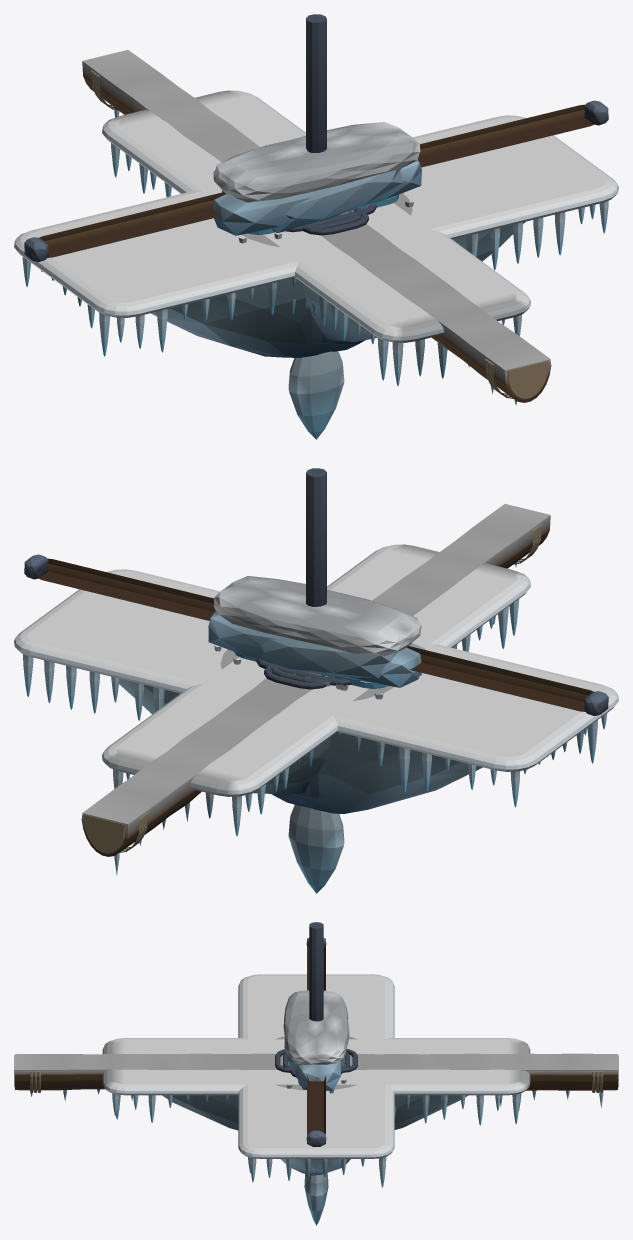
Rendered from glacier-6-03Wy5TfQ.glb.
3 views of the same model, one above another, from view 1: azimuth 30°, elevation 25°; view 2: azimuth 150°, elevation 25°; view 3: azimuth 270°, elevation 25° (orthographic). The views are drawn at different scales.
Visible parts, largest first — view 1: block_28x2x10#0, block_8x2x28#0, beam_2.5x1.5x40#0, spout_8x2#0, mount_15.3#0, blade_3x12x1#0, press_7.5x6x2.5#0, disc_10x1.5#0, jetVent_3x5#0; view 2: block_28x2x10#0, block_8x2x28#0, beam_2.5x1.5x40#0, spout_8x2#0, mount_15.3#0, blade_3x12x1#0, press_7.5x6x2.5#0, disc_10x1.5#0, jetVent_3x5#0; view 3: block_28x2x10#0, block_8x2x28#0, beam_2.5x1.5x40#0, spout_8x2#0, mount_15.3#0, press_7.5x6x2.5#0, blade_3x12x1#0.
Boxes of the visible parts, x1,y1,x2,y2 form: block_28x2x10#0: (14, 115, 618, 357); block_8x2x28#0: (102, 90, 530, 385); beam_2.5x1.5x40#0: (82, 50, 551, 405); spout_8x2#0: (213, 122, 421, 243); mount_15.3#0: (24, 100, 608, 261); blade_3x12x1#0: (288, 351, 344, 439); press_7.5x6x2.5#0: (306, 14, 326, 152); disc_10x1.5#0: (241, 193, 412, 343); jetVent_3x5#0: (303, 207, 368, 235); block_28x2x10#0: (14, 569, 618, 813); block_8x2x28#0: (102, 544, 530, 836); beam_2.5x1.5x40#0: (81, 504, 550, 875); spout_8x2#0: (208, 576, 424, 699); mount_15.3#0: (24, 554, 608, 715); blade_3x12x1#0: (288, 805, 344, 893); press_7.5x6x2.5#0: (306, 468, 326, 606); disc_10x1.5#0: (220, 649, 394, 797); jetVent_3x5#0: (264, 663, 335, 689); block_28x2x10#0: (238, 974, 394, 1187); block_8x2x28#0: (102, 1038, 530, 1130); beam_2.5x1.5x40#0: (14, 1053, 618, 1107); spout_8x2#0: (283, 990, 349, 1093); mount_15.3#0: (306, 938, 326, 1146); press_7.5x6x2.5#0: (309, 922, 323, 1021); blade_3x12x1#0: (304, 1173, 328, 1225).
Size of the model in its own units: 31.5 by 22 by 40.12.
